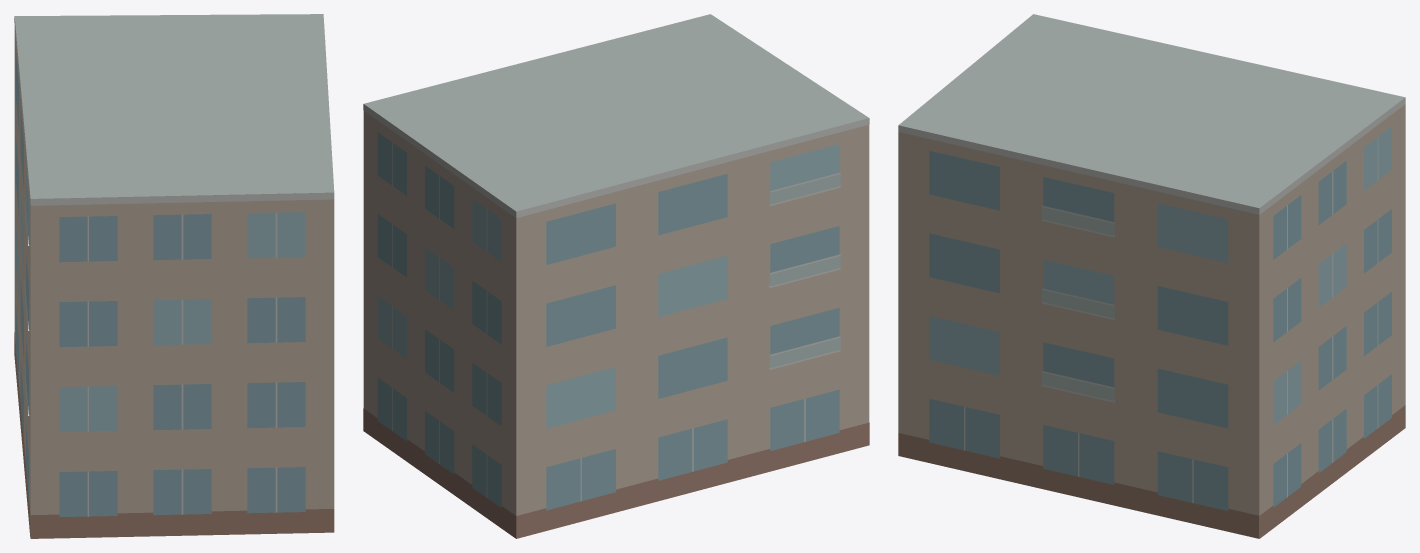
The model's file is survey-upis-32879189.glb.
3 renders of one model, left to right at view 1: azimuth 30°, elevation 25°; view 2: azimuth 150°, elevation 25°; view 3: azimuth 270°, elevation 25°, orthographic. The views are drawn at different scales.
Visible parts, largest first — view 1: survey-upis-32879189.tmp; view 2: survey-upis-32879189.tmp; view 3: survey-upis-32879189.tmp.
Boxes of the visible parts, x1,y1,x2,y2 form: survey-upis-32879189.tmp: (14, 14, 334, 538); survey-upis-32879189.tmp: (363, 14, 869, 538); survey-upis-32879189.tmp: (898, 14, 1405, 538).
Bounding box in the file's own units: 15.38 × 12.2 × 16.97.
